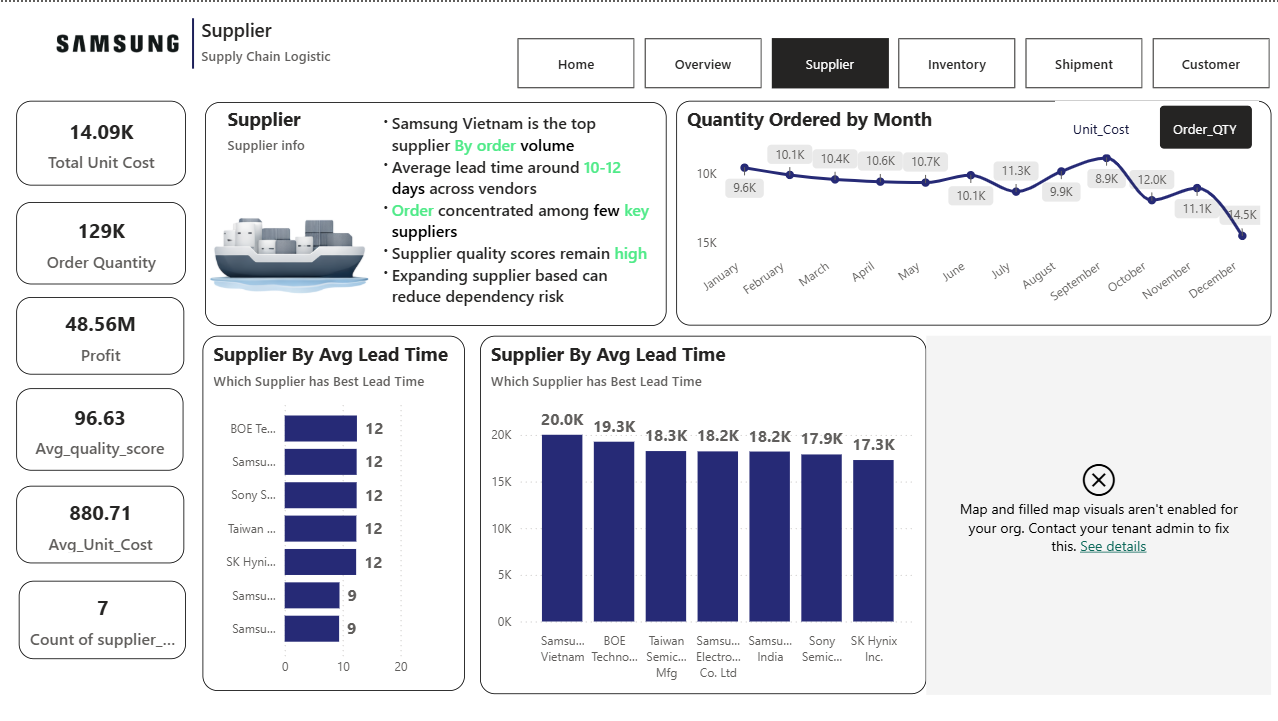

What the dashboard file says about the page in this screenshot:
{"tool":"powerbi","page":{"name":"Supplier","canvas":[1280,720],"ordinal":2},"visuals":[{"type":"shape","title":"Supplier","box":[201.7,15.1,152.3,71.4],"z":0},{"type":"shape","box":[16.9,15.7,351.1,50.7],"z":1000},{"type":"image","box":[0,15.7,235.3,50.7],"z":2000},{"type":"card","fields":{"Values":["MeasuresTable.Profit"]},"box":[16.7,295,168.3,77.9],"z":3000},{"type":"card","fields":{"Values":["MeasuresTable.Avg_quality_score"]},"box":[16.7,386.8,167,82.1],"z":4000},{"type":"card","fields":{"Values":["MeasuresTable.Avg_Unit_Cost"]},"box":[16.7,484.2,168.3,77.9],"z":5000},{"type":"card","fields":{"Values":["MeasuresTable.Order_QTY"]},"box":[16.7,200.3,169.7,82.1],"z":6000},{"type":"card","fields":{"Values":["MeasuresTable.Total_Unit_Cost"]},"box":[16.7,98.8,169.7,84.9],"z":7000},{"type":"card","fields":{"Values":["CountNonNull(dim_supplier.supplier_id)"]},"box":[18.3,578.4,167.5,78.3],"z":8000},{"type":"barChart","title":"Supplier By Avg Lead Time","fields":{"Y":["MeasuresTable.Avg_Lead_Time"],"Category":["dim_supplier.supplier_name"]},"box":[202.5,333.8,262.5,355],"z":9000},{"type":"columnChart","title":"Supplier By Avg Lead Time","fields":{"Category":["dim_supplier.supplier_name"],"Y":["MeasuresTable.Order_QTY"]},"box":[480,333.8,446.2,358.8],"z":10000},{"type":"lineChart","title":"Quantity Ordered by Month","fields":{"Y":["MeasuresTable.Order_QTY"],"Category":["dim_date.month_name"]},"box":[676.2,98.8,595,225],"z":11000},{"type":"advancedSlicerVisual","fields":{"Values":["Cost_QTS_Suppliers.Cost_QTS_Suppliers"]},"box":[1055,98.8,203.8,53.8],"z":12000},{"type":"shape","box":[205,100,461.2,223.8],"z":13000},{"type":"image","box":[192.1,152.3,185.2,183.9],"z":14000},{"type":"shape","title":"Supplier","box":[227.5,103.8,181.2,75],"z":15000},{"type":"pageNavigator","box":[517.3,36.7,753.3,50.1],"z":16000},{"type":"textbox","box":[368.3,105,288.3,206.7],"z":17000},{"type":"map","fields":{"Category":["dim_supplier.country"],"Series":["dim_supplier.supplier_name"],"Size":["MeasuresTable.Total_Unit_Cost"]},"box":[926,334,345,359],"z":18000}]}

Visuals, with their boxes in screenshot pixels (x1, y1, x2, y2), scaled from the page's 1280x720 canvas onto the 1278x721 screenshot:
"Supplier" shape: 201 15 353 87
shape: 17 16 367 66
image: 0 16 235 66
card - MeasuresTable.Profit: 17 295 185 373
card - MeasuresTable.Avg_quality_score: 17 387 183 470
card - MeasuresTable.Avg_Unit_Cost: 17 485 185 563
card - MeasuresTable.Order_QTY: 17 201 186 283
card - MeasuresTable.Total_Unit_Cost: 17 99 186 184
card - CountNonNull(dim_supplier.supplier_id): 18 579 186 658
"Supplier By Avg Lead Time" barChart: 202 334 464 690
"Supplier By Avg Lead Time" columnChart: 479 334 925 694
"Quantity Ordered by Month" lineChart: 675 99 1269 324
advancedSlicerVisual - Cost_QTS_Suppliers.Cost_QTS_Suppliers: 1053 99 1257 153
shape: 205 100 665 324
image: 192 153 377 337
"Supplier" shape: 227 104 408 179
pageNavigator: 516 37 1269 87
textbox: 368 105 656 312
map - dim_supplier.country x dim_supplier.supplier_name: 925 334 1269 694
